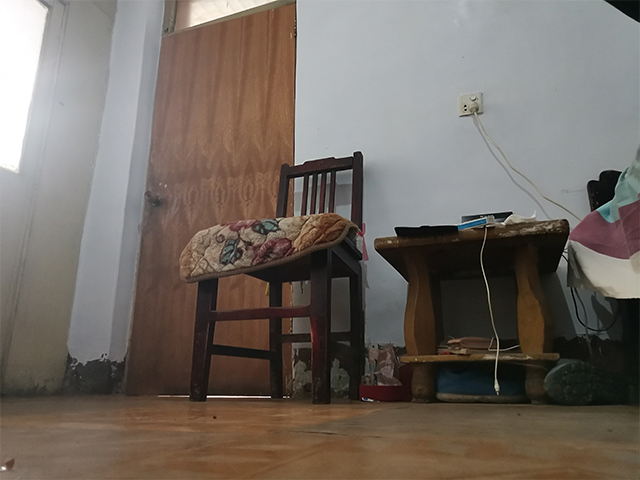stool: (187, 148, 367, 405)
table: (373, 217, 571, 406)
wire: (461, 93, 575, 210), (561, 248, 620, 336), (473, 225, 503, 395)
